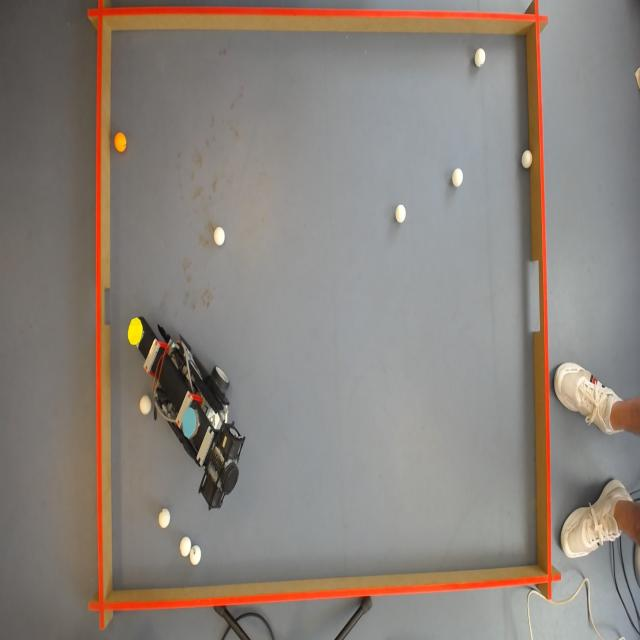orange: (116, 132, 128, 153)
robot: (125, 310, 246, 509)
robot-front: (126, 320, 142, 348)
robot-rear: (180, 402, 199, 439)
white: (136, 397, 150, 418), (159, 507, 171, 529), (214, 227, 227, 247), (178, 536, 191, 556), (189, 545, 201, 566), (522, 150, 534, 170), (451, 168, 464, 186), (475, 49, 488, 66), (397, 203, 408, 222)
